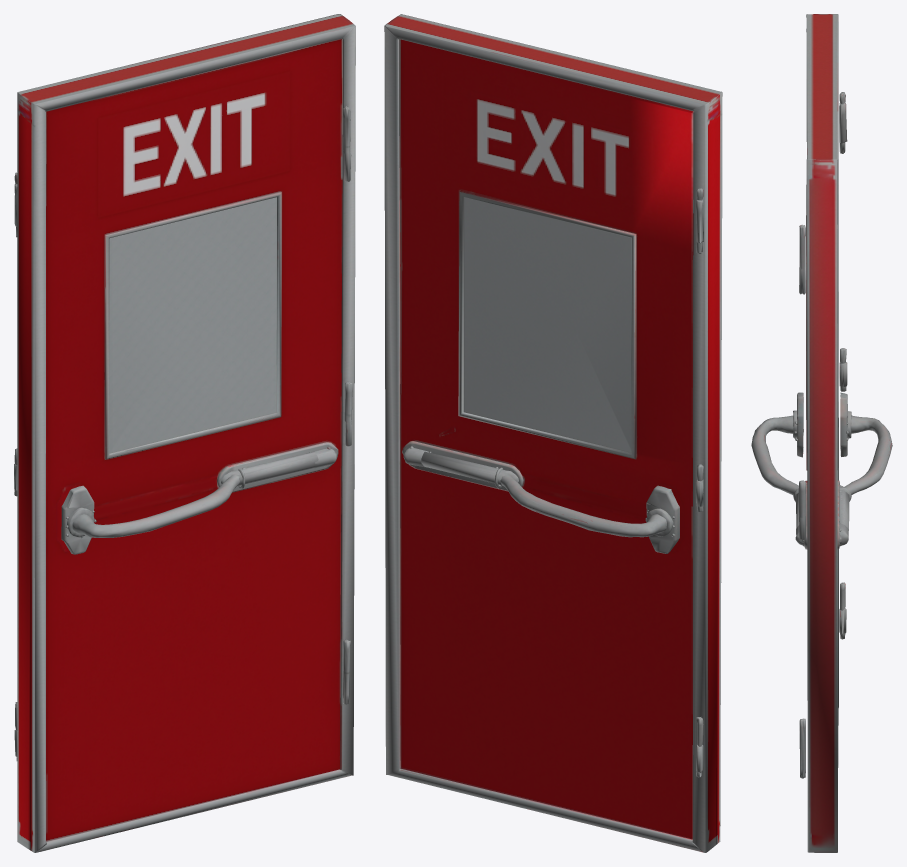
File: Meshy_AI_an_exit_door_0903105826_texture.glb
3 views of the same model, side by side, from view 1: azimuth 30°, elevation 25°; view 2: azimuth 150°, elevation 25°; view 3: azimuth 270°, elevation 25° (orthographic). The views are drawn at different scales.
Parts seen in each view (by area): view 1: mesh_node; view 2: mesh_node; view 3: mesh_node.
Part boxes in pixels (bbox=[...]): mesh_node: bbox=[14, 14, 355, 852]; mesh_node: bbox=[384, 14, 722, 852]; mesh_node: bbox=[751, 14, 892, 852].
Size of the model in its own units: 0.4512 by 1 by 0.1846.
1 material, 1 textured.
